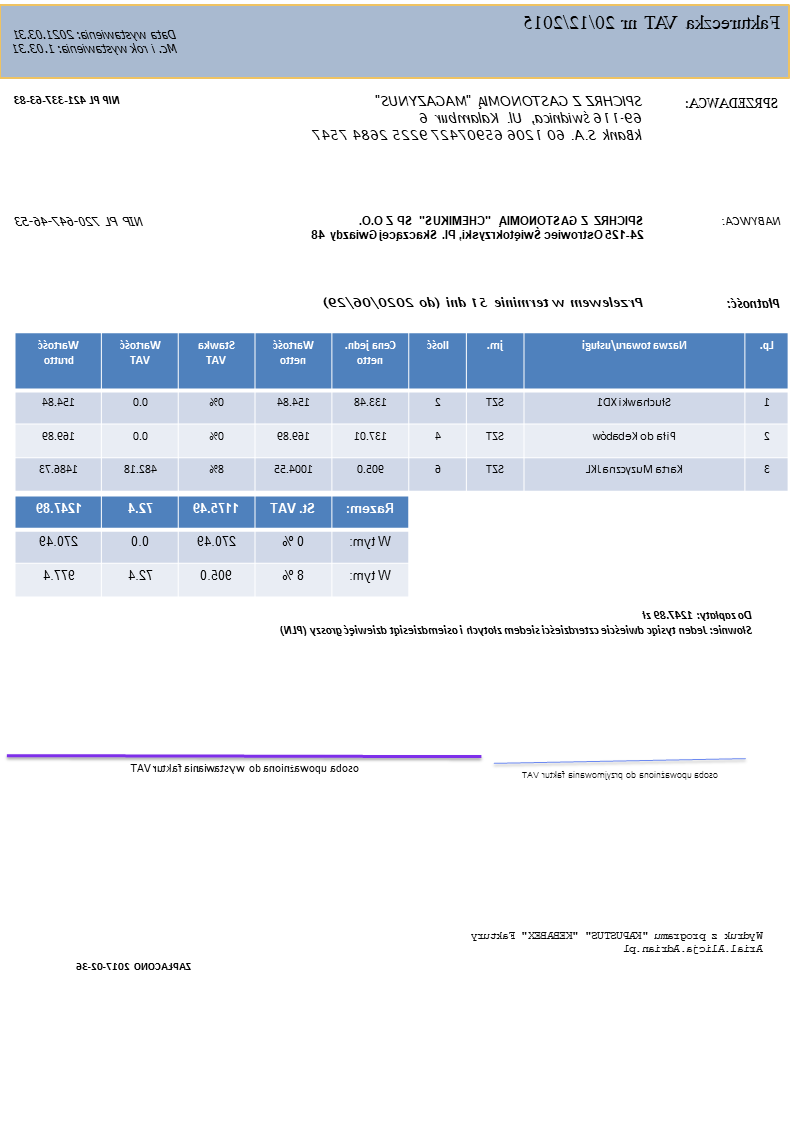Table: (15, 331, 790, 490), (14, 495, 410, 599)
TextBox: (309, 91, 647, 146), (279, 606, 755, 640), (309, 211, 648, 245), (468, 929, 767, 955), (522, 11, 782, 33), (10, 25, 179, 58), (322, 294, 645, 310), (128, 761, 362, 777), (520, 767, 720, 781), (13, 213, 146, 230), (11, 90, 123, 108), (683, 94, 782, 113), (75, 958, 195, 973), (726, 294, 783, 311), (720, 213, 783, 228)
